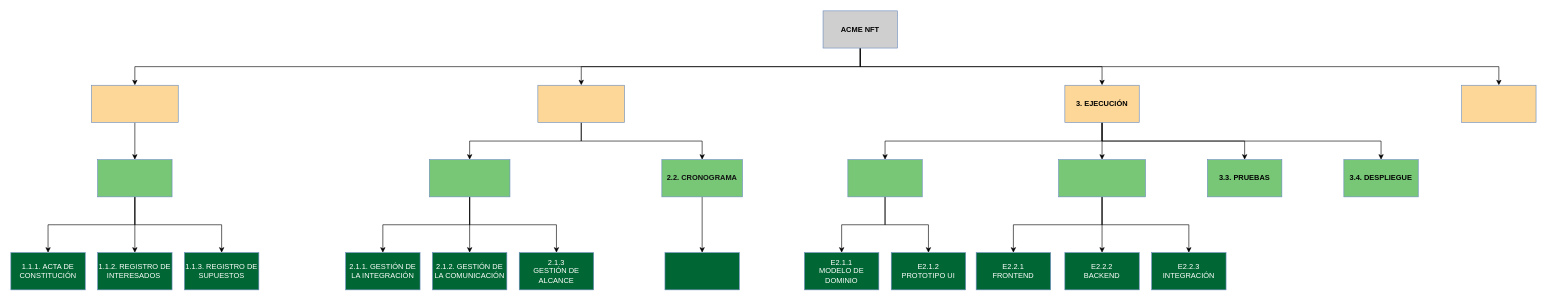
Image size: 1547x301. Some labels were removed from this diagram. The shapes that lost their labels are listed below. From the top down, each one's centre as x and y in pixels, then its label:
(x=134, y=103): 1. INICIO
(x=581, y=103): 2. PLANIFICACIÓN
(x=1498, y=103): 4. CIERRE
(x=134, y=178): 1.1. CONSTITUCIÓN
(x=469, y=178): 2.1. COMUNICACIÓN, INTEGRACIÓN Y ALCANCE
(x=884, y=178): 3.1. DISEÑO
(x=1101, y=178): 3.2. IMPLEMENTACIÓN
(x=701, y=271): 2.2.1. GESTIÓN DEL CRONOGRAMA
